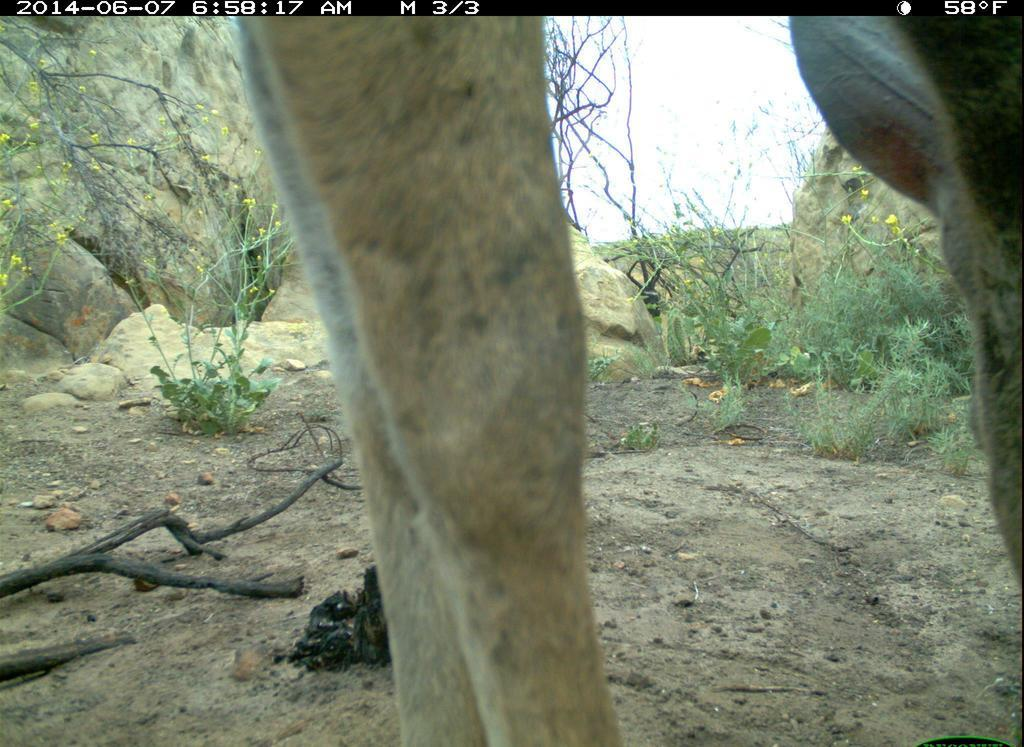deer: (186, 6, 1022, 740)
